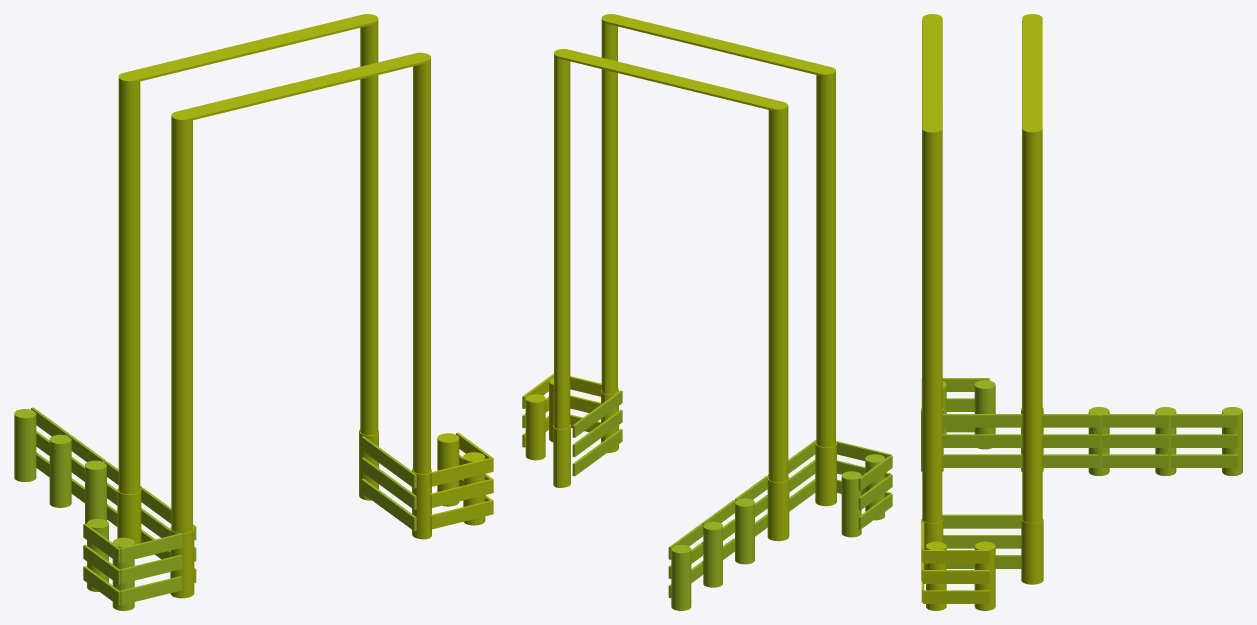
Rendered from airDoor.obj.
3 views of the same model, side by side, from view 1: azimuth 30°, elevation 25°; view 2: azimuth 150°, elevation 25°; view 3: azimuth 270°, elevation 25° (orthographic). The views are drawn at different scales.
Size of the model in its own units: 1.47 by 1.8 by 1.16.
